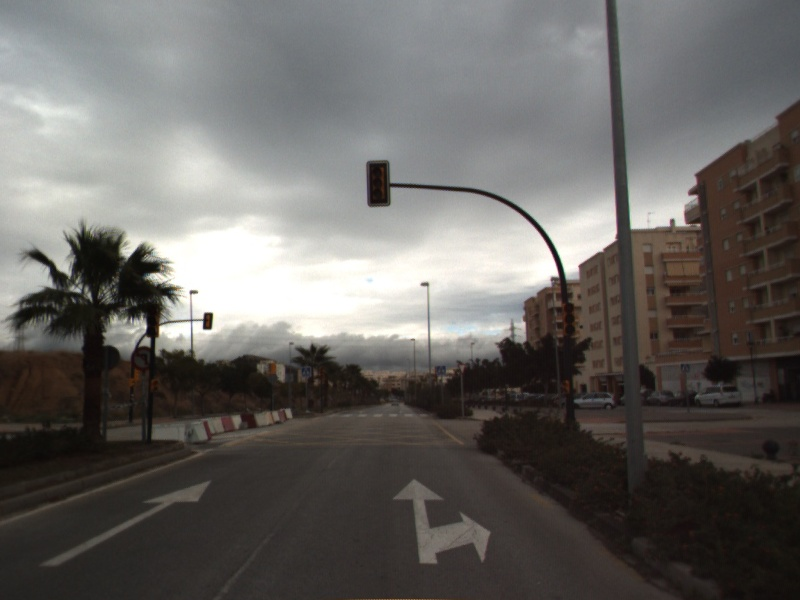STRAIGHT: (38, 478, 213, 568)
STRAIGHT_RIGHT: (391, 477, 493, 566)
